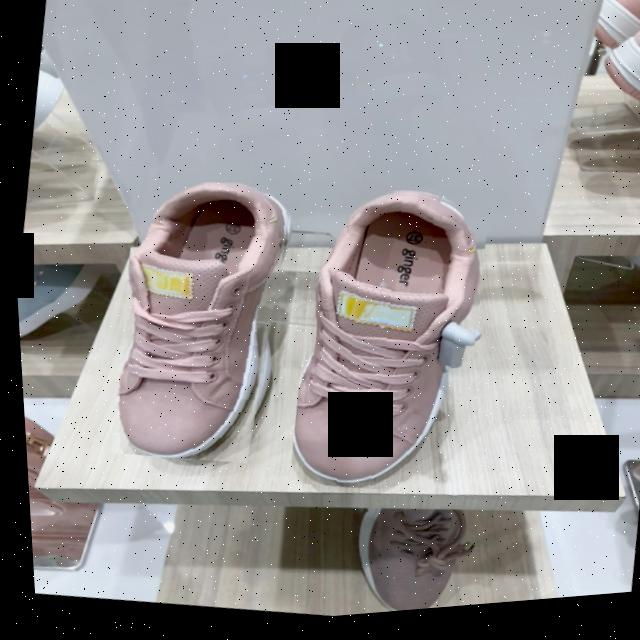shoe: (288, 200, 477, 494), (116, 187, 286, 461)
